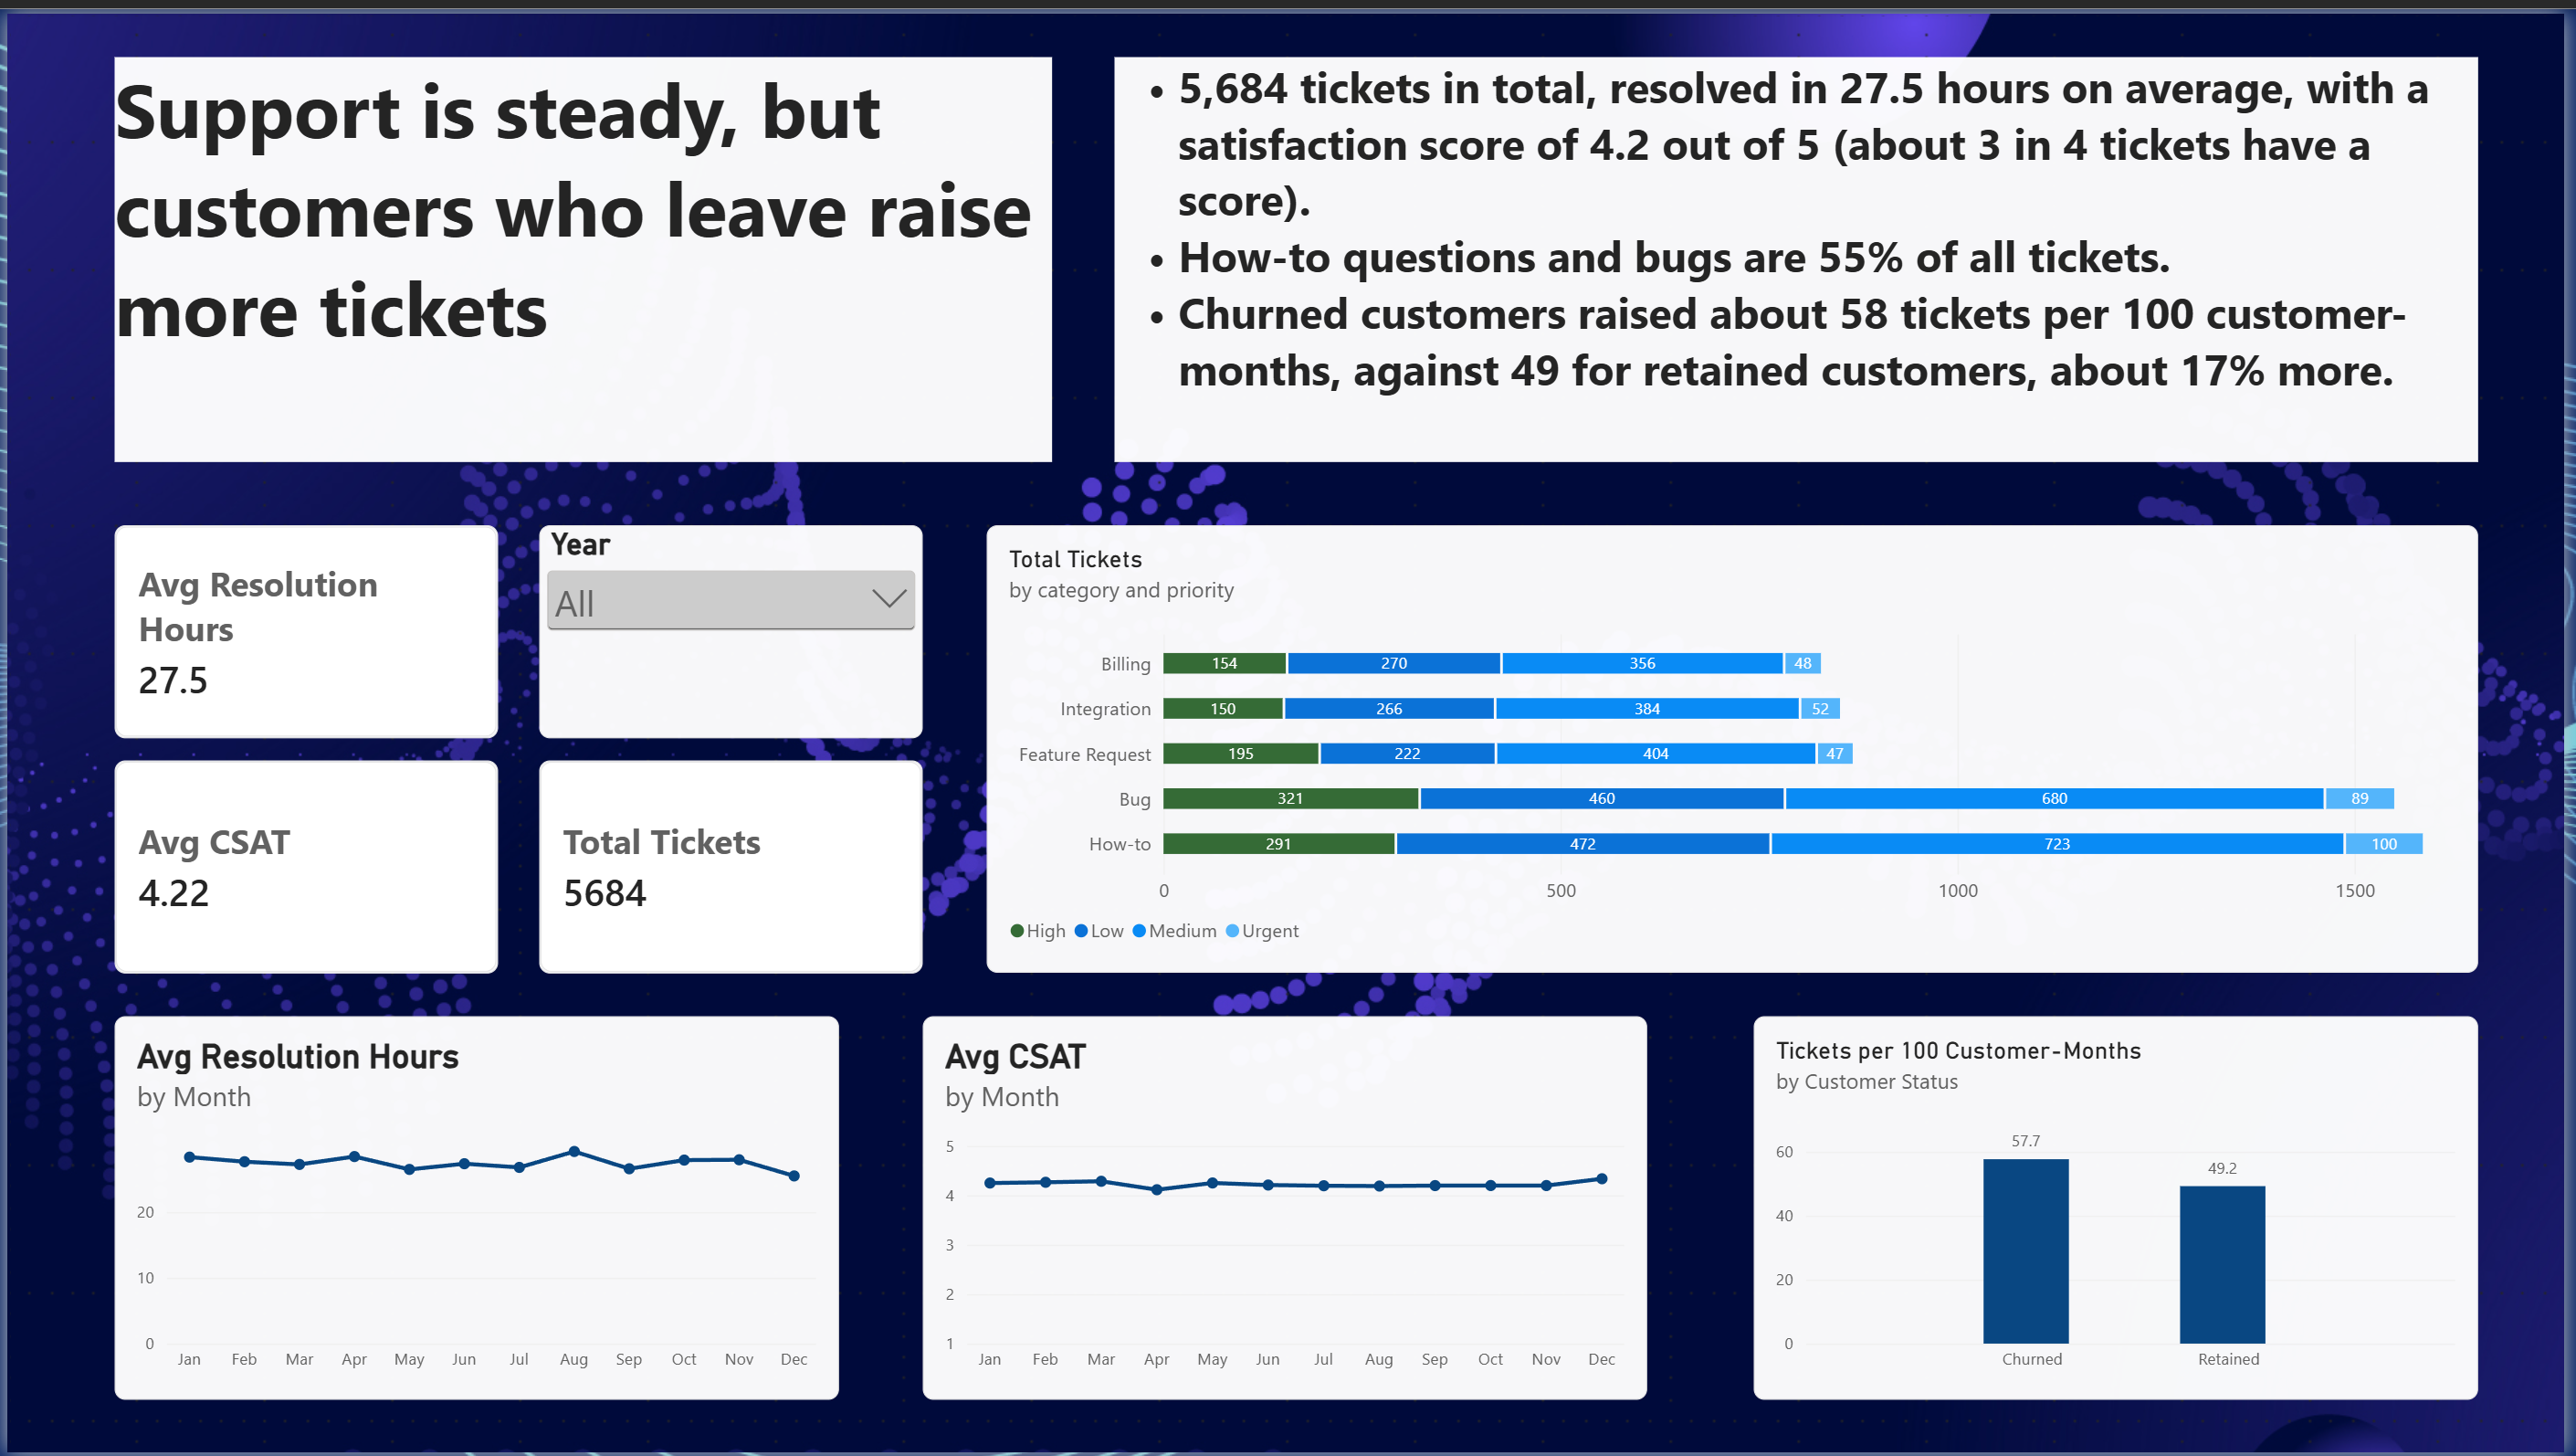

The page's visual inventory and layout, read from the dashboard file:
{"tool":"powerbi","page":{"name":"Customer Support","canvas":[1920,1080],"ordinal":4},"visuals":[{"type":"cardVisual","fields":{"Data":["support_and_usage_measures.Total Tickets"]},"box":[400,560,288,160],"z":0},{"type":"cardVisual","fields":{"Data":["support_and_usage_measures.Avg CSAT"]},"box":[80,560,288,160],"z":1000},{"type":"cardVisual","fields":{"Data":["support_and_usage_measures.Avg Resolution Hours"]},"box":[80,384,288,160],"z":2000},{"type":"barChart","fields":{"Category":["support_tickets.category"],"Series":["support_tickets.priority"],"Y":["support_and_usage_measures.Total Tickets"]},"box":[736,384,1120,336],"z":3000},{"type":"lineChart","fields":{"Category":["Date.Month"],"Y":["support_and_usage_measures.Avg Resolution Hours"]},"box":[80,752,544,288],"z":4000},{"type":"lineChart","fields":{"Category":["Date.Month"],"Y":["support_and_usage_measures.Avg CSAT"]},"box":[688,752,544,288],"z":5000},{"type":"clusteredColumnChart","fields":{"Category":["customers.Customer Status"],"Y":["core_measures.Tickets per 100 Customer-Months"]},"box":[1312,752,544,288],"z":6000},{"type":"slicer","fields":{"Values":["Date.Year"]},"box":[400,384,288,160],"z":7000},{"type":"textbox","box":[832,32,1024,304],"z":7001},{"type":"textbox","box":[80,32,704,304],"z":7002}]}

Visuals, with their boxes in screenshot pixels (x1, y1, x2, y2), scaled from the page's 1920x1080 canvas onto the 2576x1456 screenshot:
cardVisual - support_and_usage_measures.Total Tickets: region(537, 755, 923, 971)
cardVisual - support_and_usage_measures.Avg CSAT: region(108, 755, 494, 971)
cardVisual - support_and_usage_measures.Avg Resolution Hours: region(108, 518, 494, 733)
barChart - support_tickets.category x support_tickets.priority: region(987, 518, 2490, 971)
lineChart - Date.Month x support_and_usage_measures.Avg Resolution Hours: region(108, 1014, 837, 1402)
lineChart - Date.Month x support_and_usage_measures.Avg CSAT: region(923, 1014, 1653, 1402)
clusteredColumnChart - customers.Customer Status x core_measures.Tickets per 100 Customer-Months: region(1761, 1014, 2490, 1402)
slicer - Date.Year: region(537, 518, 923, 733)
textbox: region(1116, 43, 2490, 453)
textbox: region(108, 43, 1052, 453)
